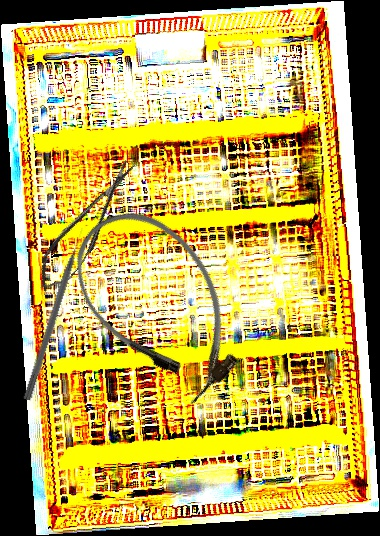Cannula: (50, 186, 268, 421)
Micro Scissor: (26, 152, 150, 300)
Pusher: (22, 226, 89, 402)
